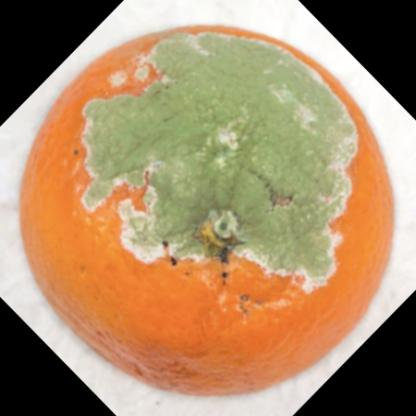rotten: (20, 27, 395, 401)
